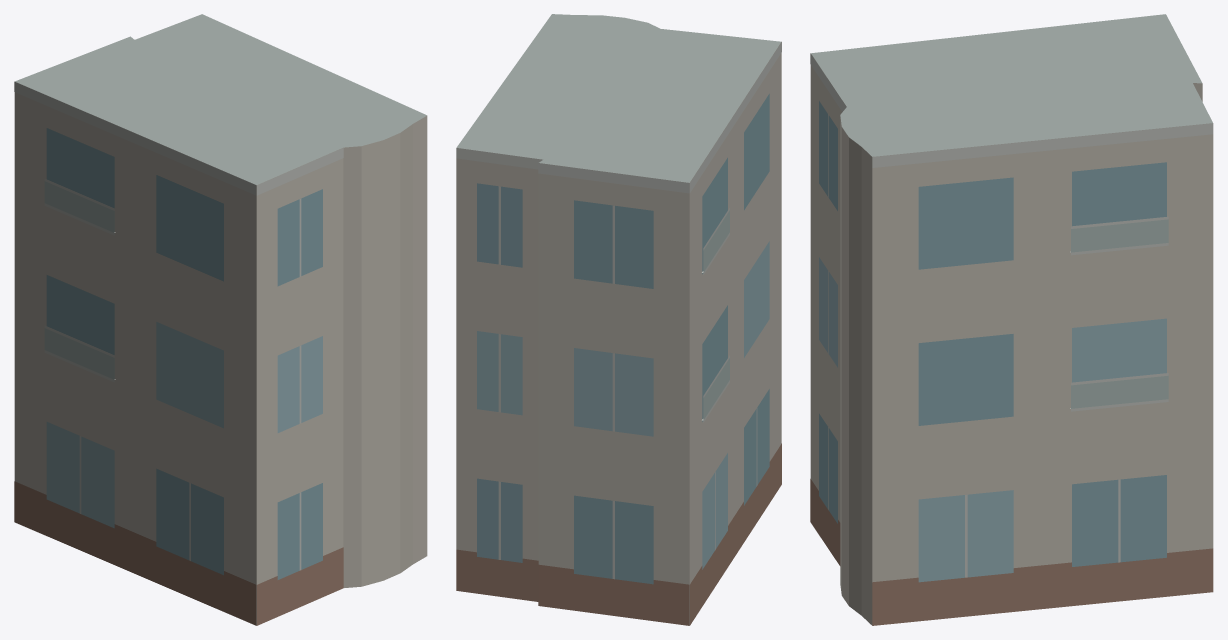
File: survey-upis-33025044.glb
The picture shows the model from 3 angles, left to right: view 1: azimuth 30°, elevation 25°; view 2: azimuth 150°, elevation 25°; view 3: azimuth 270°, elevation 25°; orthographic projection. The views are drawn at different scales.
Parts seen in each view (by area): view 1: survey-upis-33025044.tmp; view 2: survey-upis-33025044.tmp; view 3: survey-upis-33025044.tmp.
Boxes of the visible parts, box(x1,y1,x2,y2) form: survey-upis-33025044.tmp: box(14, 14, 427, 625); survey-upis-33025044.tmp: box(456, 14, 781, 625); survey-upis-33025044.tmp: box(810, 14, 1213, 625).
Size of the model in its own units: 6.67 by 10.2 by 7.94.
